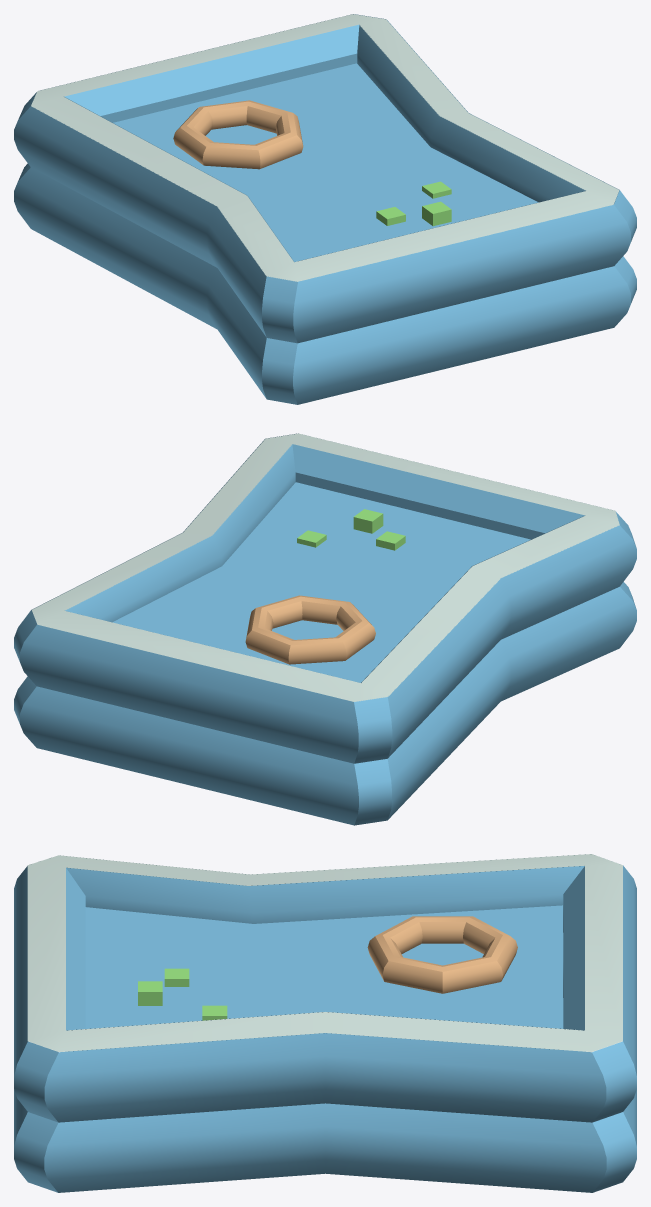
The model's file is kids_Pool.fbx.
3 views of the same model, one above another, from view 1: azimuth 30°, elevation 25°; view 2: azimuth 150°, elevation 25°; view 3: azimuth 270°, elevation 25° (orthographic). The views are drawn at different scales.
Parts seen in each view (by area): view 1: Tub.001, Water.001, Top, Swimmingring, Toy; view 2: Tub.001, Water.001, Top, Swimmingring, Toy; view 3: Tub.001, Water.001, Top, Swimmingring, Toy.
Part boxes in pixels (<box>): Tub.001: <box>14,14,636,404</box>; Water.001: <box>113,63,538,261</box>; Top: <box>31,14,619,281</box>; Swimmingring: <box>173,100,303,169</box>; Toy: <box>376,181,451,226</box>; Tub.001: <box>14,433,636,825</box>; Water.001: <box>112,482,530,682</box>; Top: <box>32,433,619,701</box>; Swimmingring: <box>245,595,375,664</box>; Toy: <box>297,509,405,550</box>; Tub.001: <box>14,854,636,1192</box>; Water.001: <box>85,905,562,1028</box>; Top: <box>27,854,622,1051</box>; Swimmingring: <box>367,916,517,993</box>; Toy: <box>138,968,227,1020</box>.
Size of the model in its own units: 252 by 81.44 by 316.
